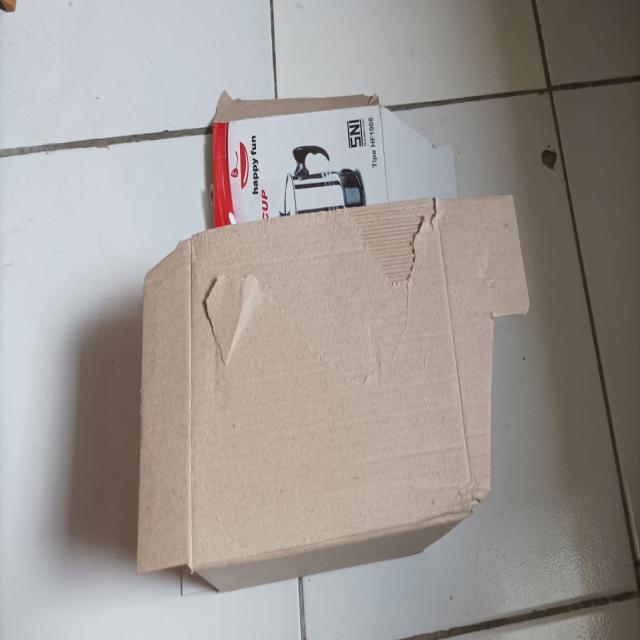Organik: (136, 91, 526, 597)
